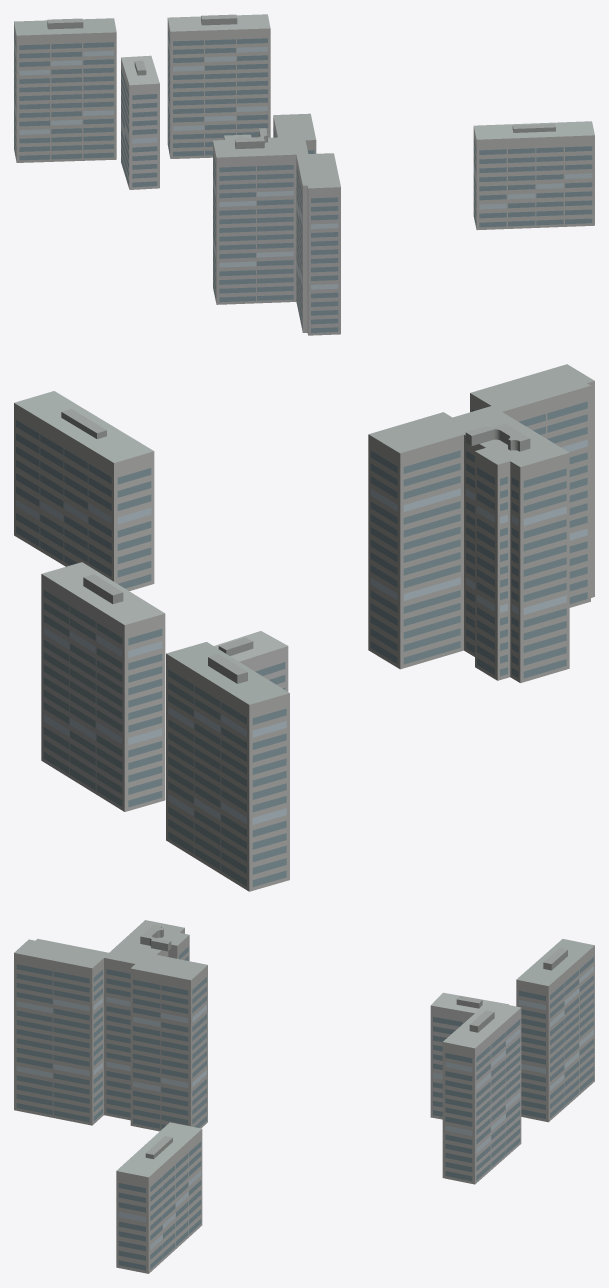
Rendered from apt-a15809201.glb.
3 views of the same model, one above another, from view 1: azimuth 30°, elevation 25°; view 2: azimuth 150°, elevation 25°; view 3: azimuth 270°, elevation 25° (orthographic). The views are drawn at different scales.
Parts seen in each view (by area): view 1: apt-a15809201; view 2: apt-a15809201; view 3: apt-a15809201.
Part boxes in pixels (x1,y1,x2,y2): apt-a15809201: (14, 14, 594, 335); apt-a15809201: (14, 364, 594, 891); apt-a15809201: (14, 920, 594, 1273).
Bounding box in the file's own units: 135 × 52 × 166.
